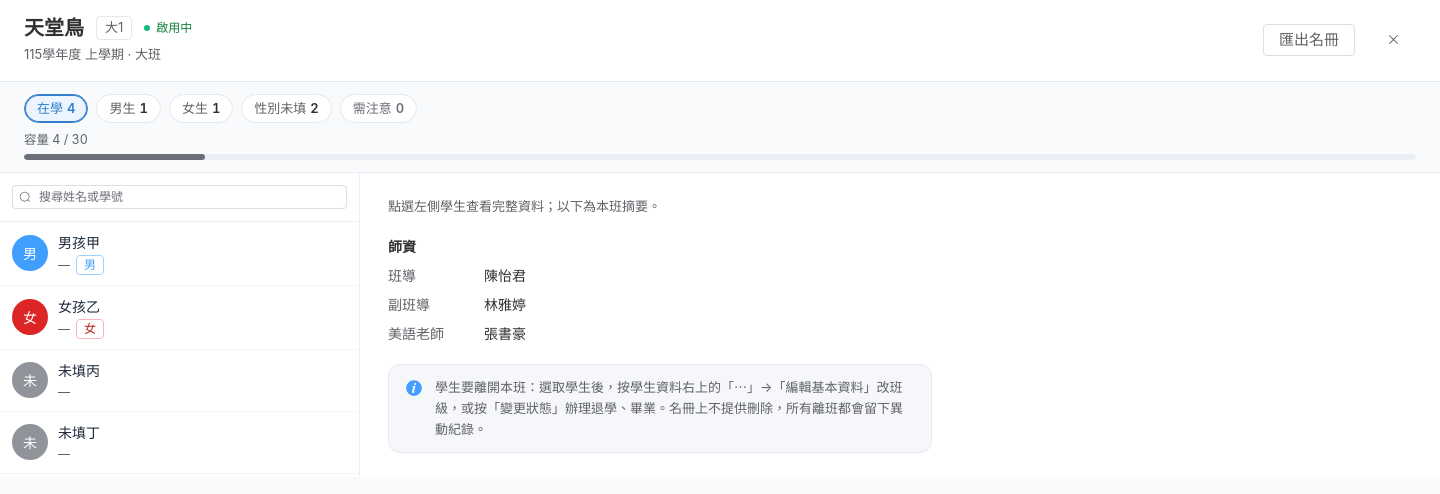
ClassroomStudentDrawer 第二輪改版 › 性別篩選只剩統計 pill（移除重複的 radio group） › 「未填」pill 計數＝在學生中性別非男非女者，點擊後名冊只剩這些學生
The width and height of the screenshot is (1440, 494).
Click the button with class "stat-pill--unknown": x=286, y=108 [241, 94, 332, 123]
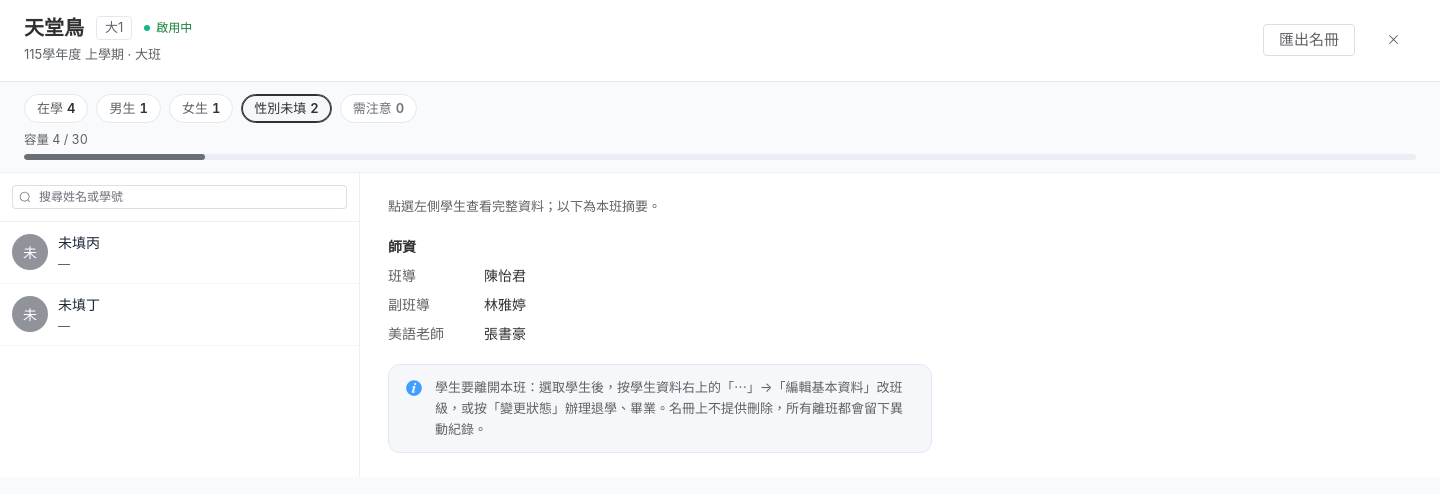
Expected: the element with class "roster-list" shows "未填丙", [58, 234, 100, 251]
Now the option with class "roster-list" no longer shows "男孩甲"
Now the option with class "roster-list" no longer shows "女孩乙"
